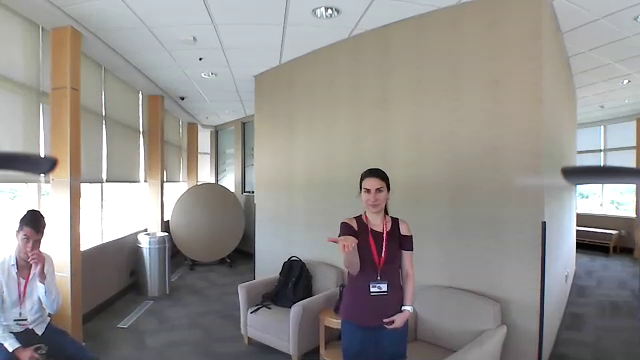land: (323, 231, 364, 255)
